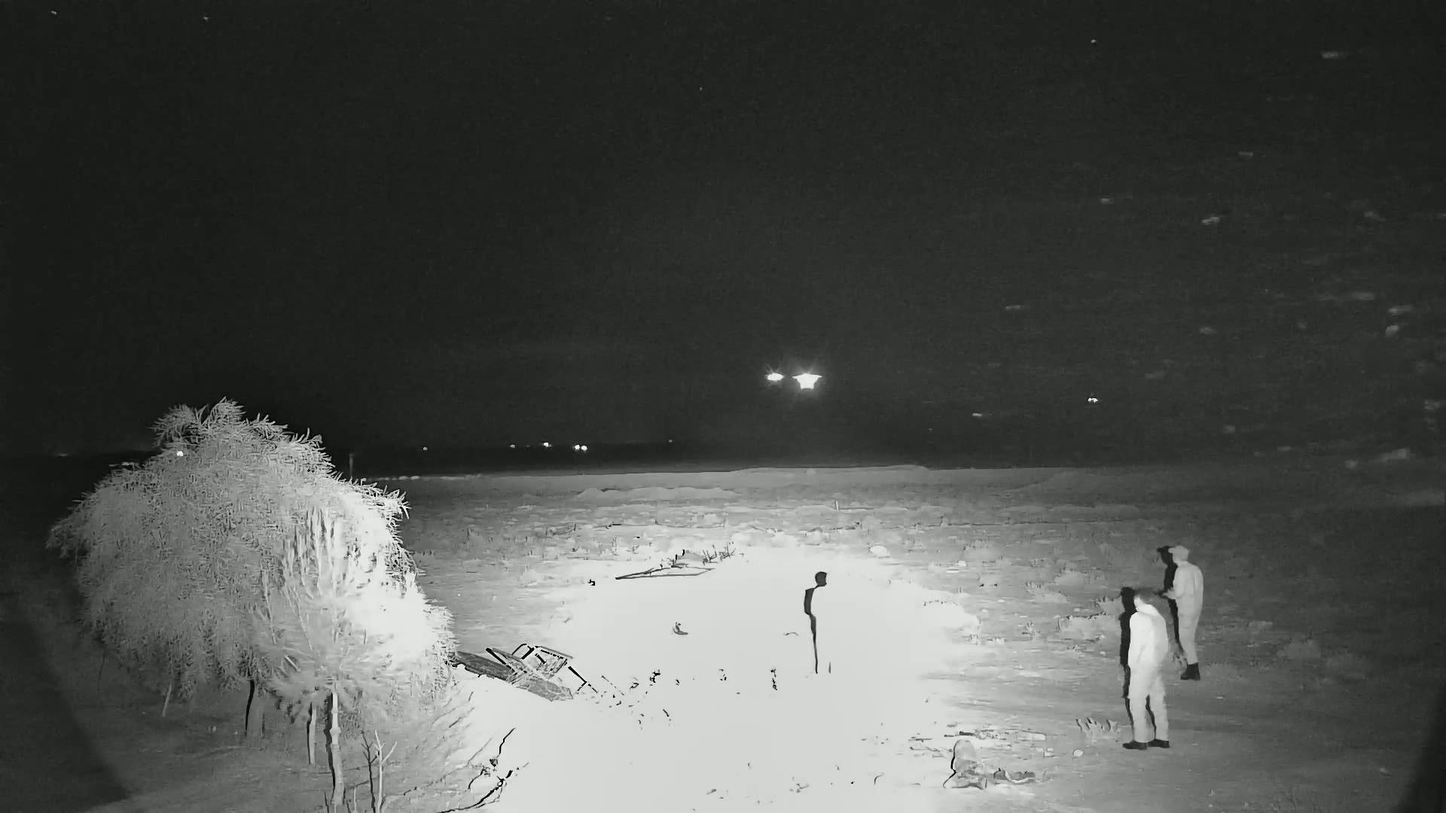DJI-Phantom: (797, 367, 825, 393), (761, 364, 790, 389)
